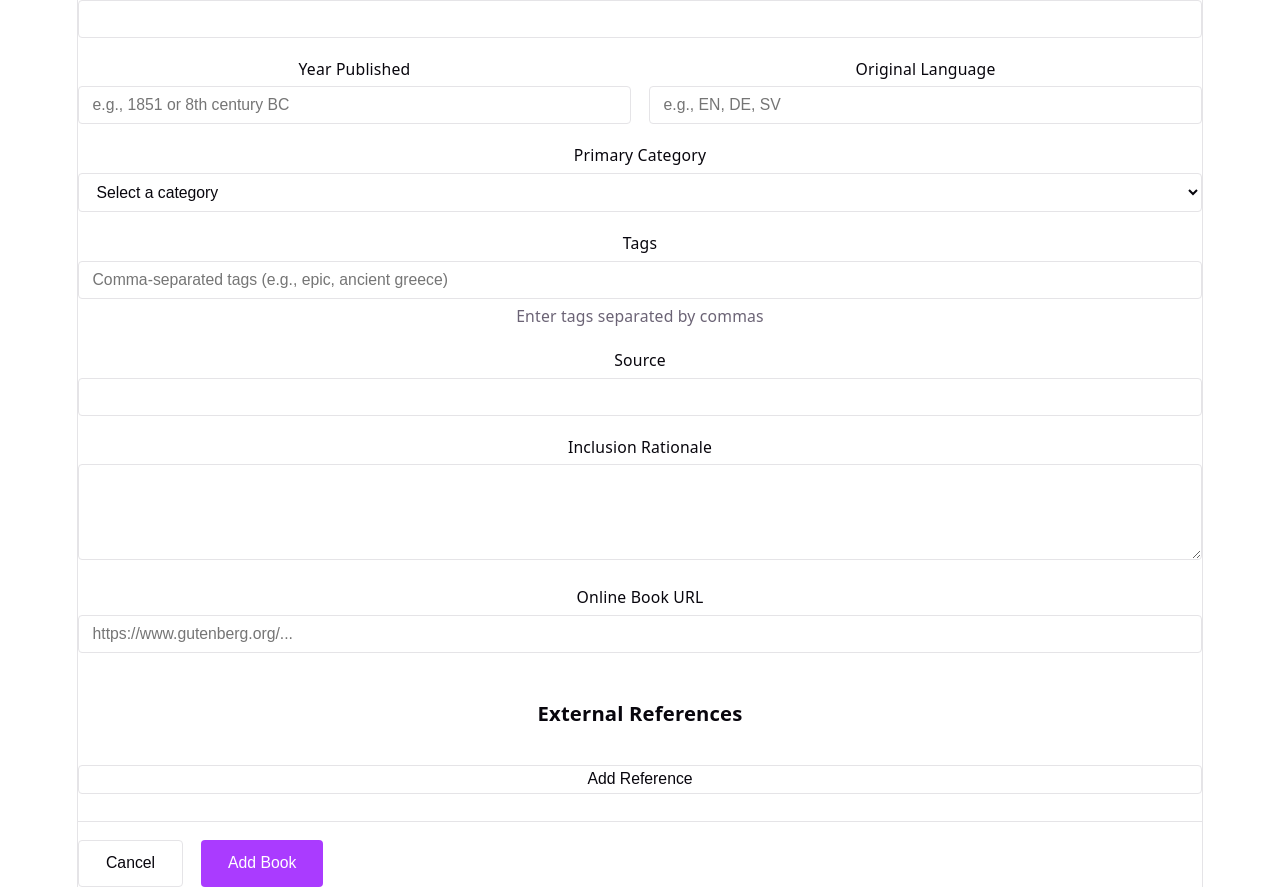
it: AddBookForm › External References › should allow adding external references
(page scrolled)
Click the button "Add Reference" at {"x": 640, "y": 779}, box 78,765 -> 1202,794
(page scrolled)
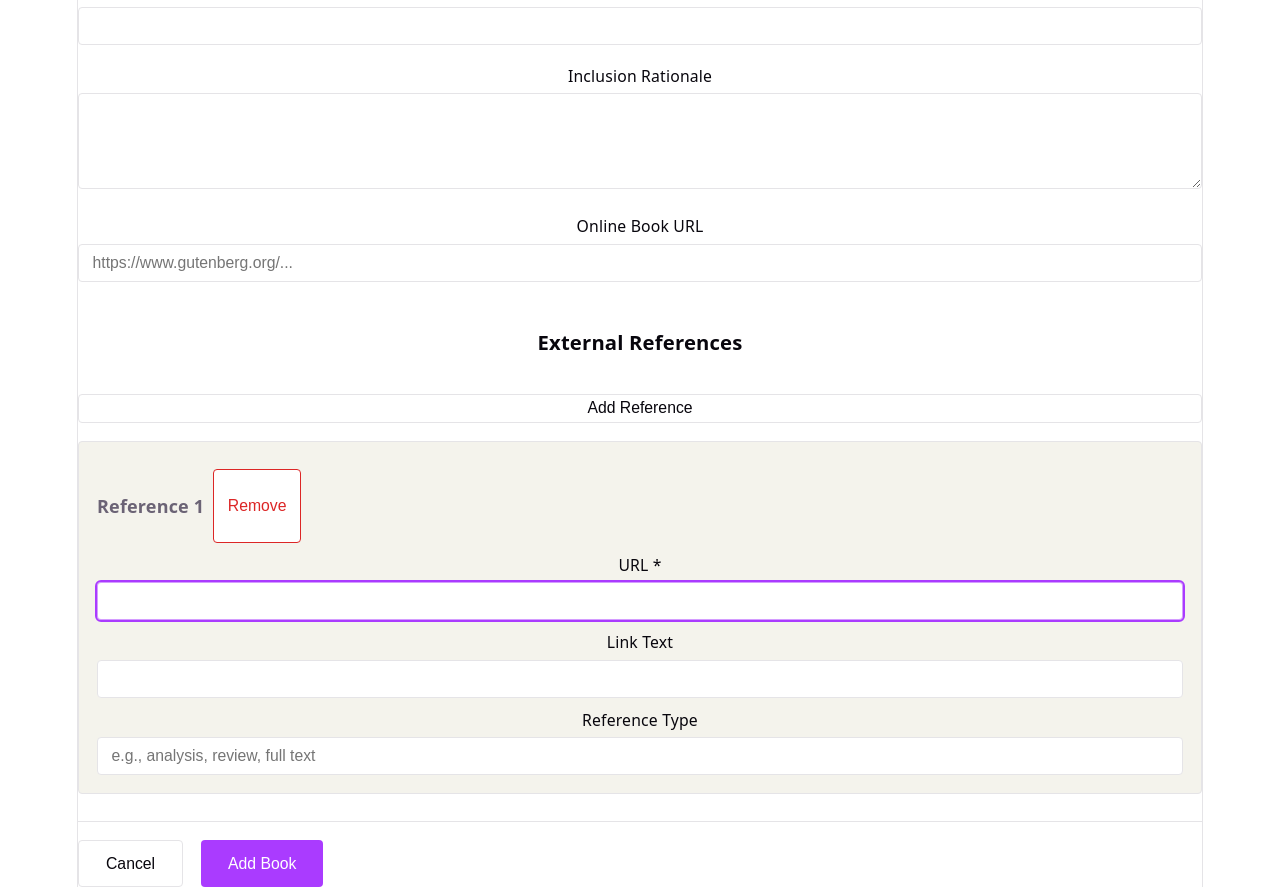
Expected: the field labelled "URL *" is shown, 97,582 -> 1183,620
